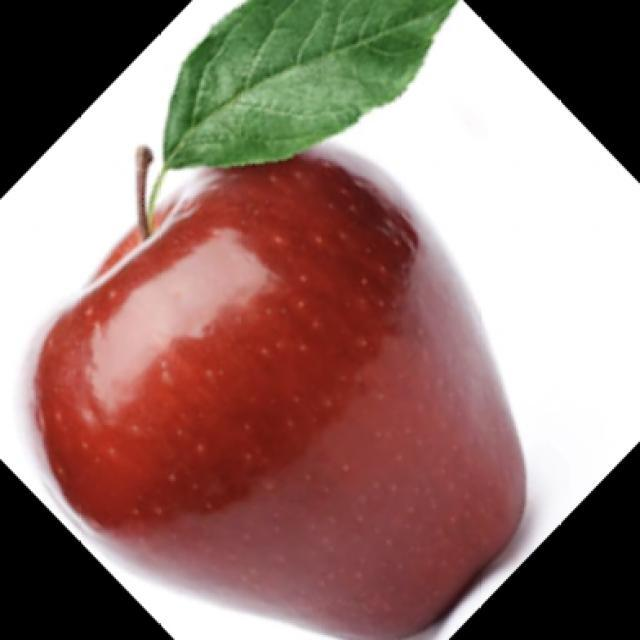Fresh Apple: (41, 153, 523, 640)
